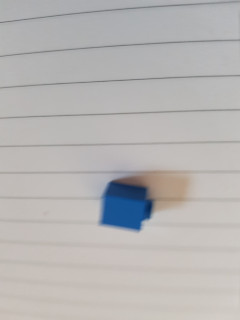1x1 blue: (96, 179, 155, 233)
